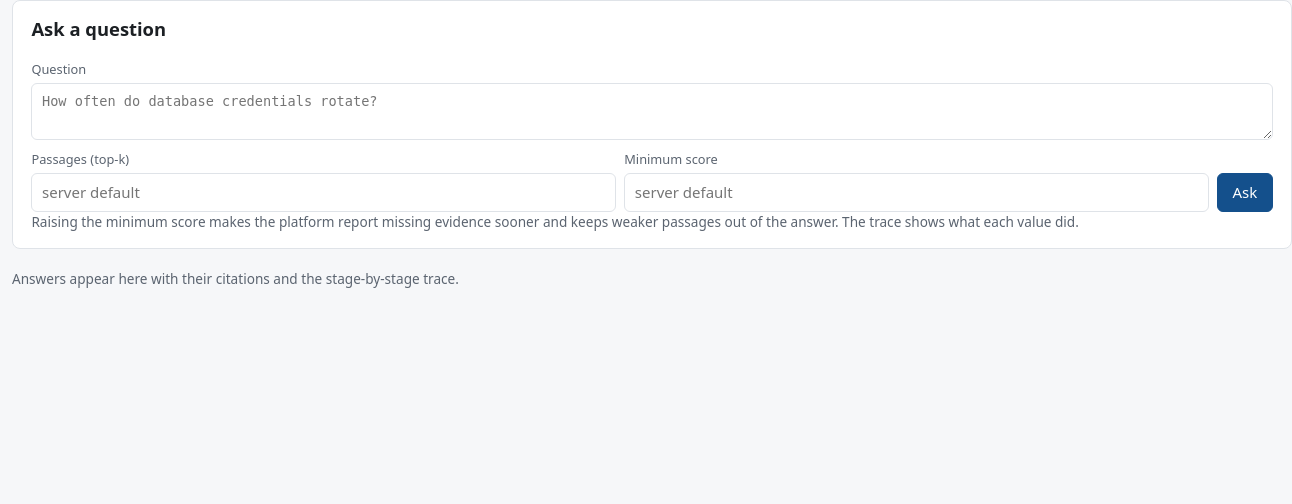
QueryPanel › shows a failed question with the backend code and request id
In the text box labelled "Question": (652, 112) [31,83,1273,140], type "How often?"
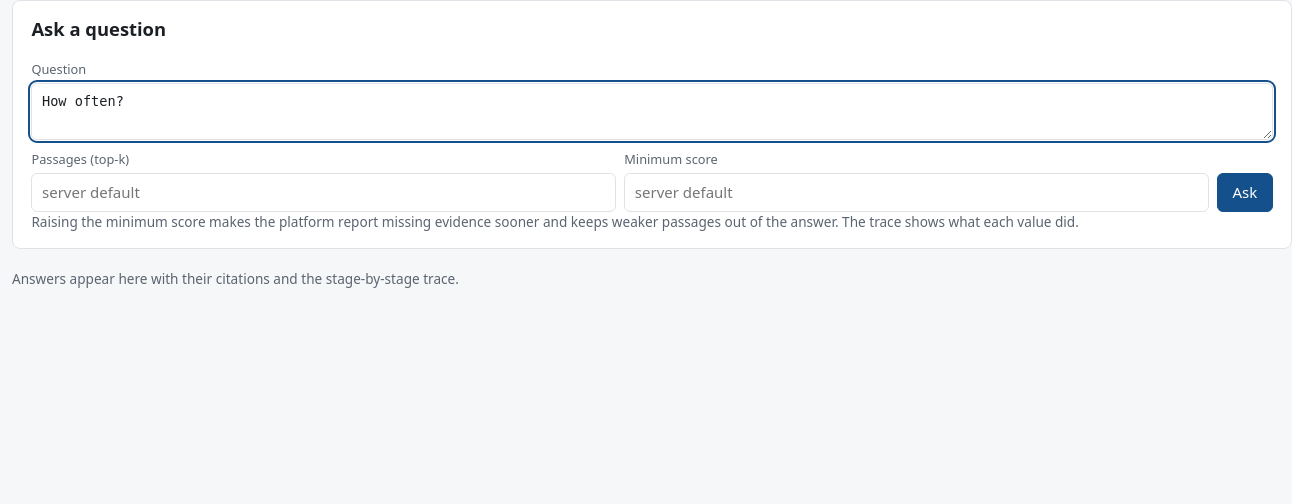
Click the button "Ask": (1245, 193) [1217,173,1273,212]
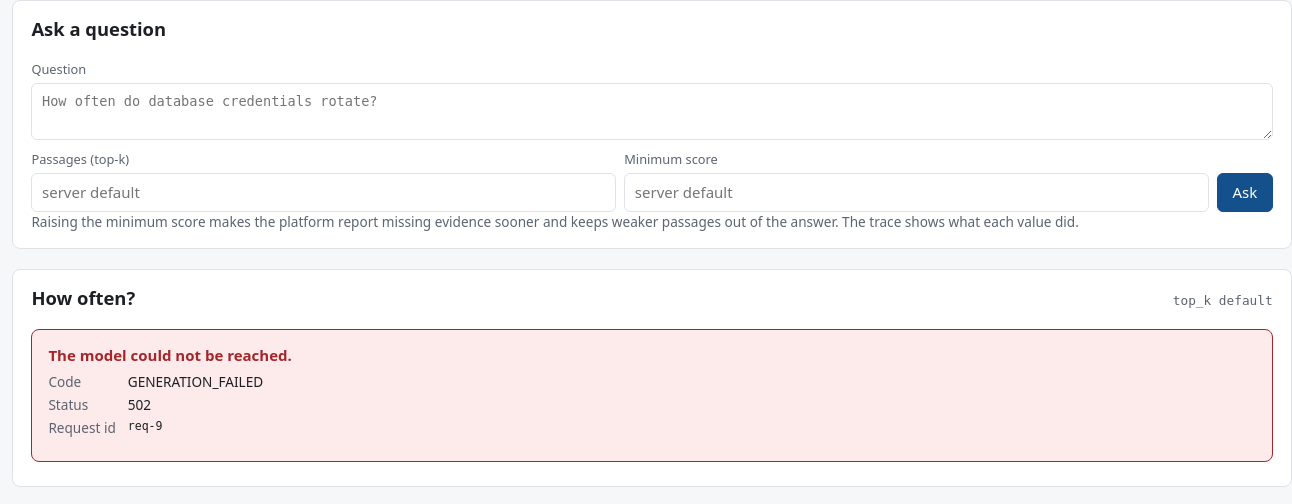
Check: the text "The model could not be reached." is shown, box [48,345,292,365]
Check: the text "GENERATION_FAILED" is shown, box [128,372,263,391]
Check: the text "req-9" is shown, box [128,419,163,433]
